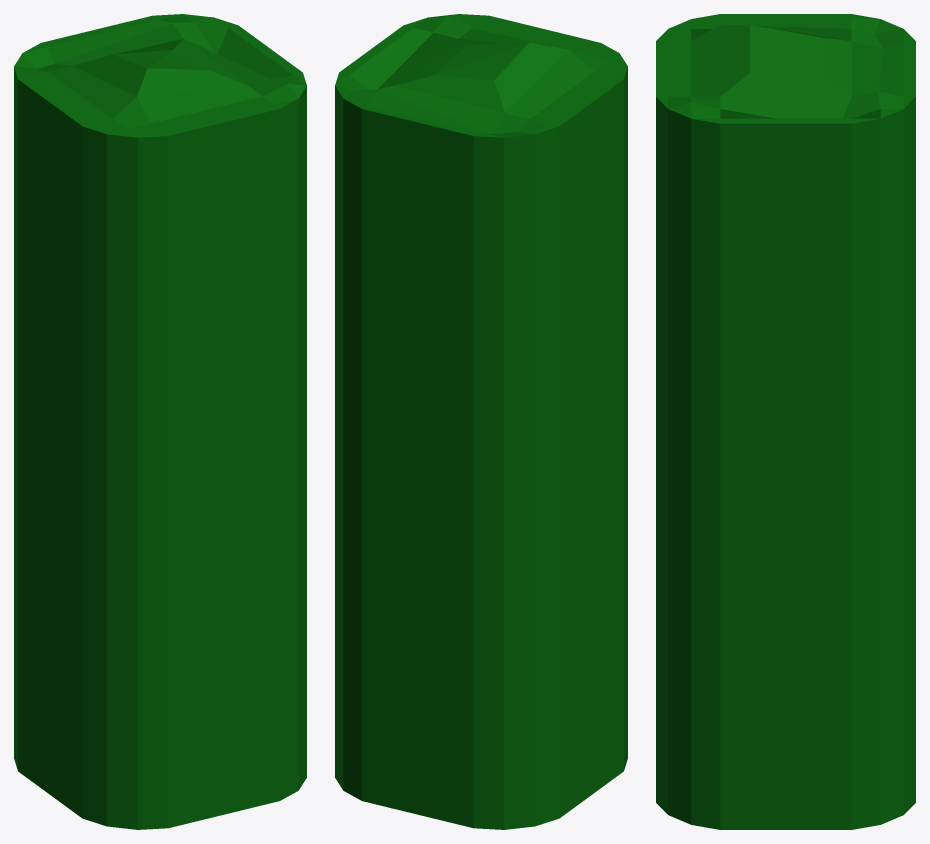
The model's file is Bush03.fbx.
3 views of the same model, side by side, from view 1: azimuth 30°, elevation 25°; view 2: azimuth 150°, elevation 25°; view 3: azimuth 270°, elevation 25° (orthographic). The views are drawn at different scales.
Parts seen in each view (by area): view 1: Bush03; view 2: Bush03; view 3: Bush03.
Boxes of the visible parts, <box> form: Bush03: <box>14,14,306,829</box>; Bush03: <box>335,14,627,829</box>; Bush03: <box>656,14,915,829</box>.
Size of the model in its own units: 100 by 312 by 100.
